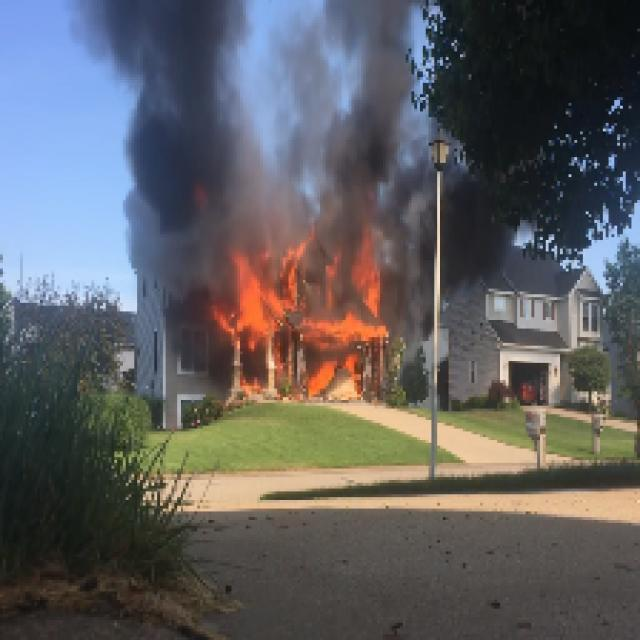Fire: (247, 262, 383, 352)
Smoke: (132, 0, 236, 286), (341, 0, 408, 240)
